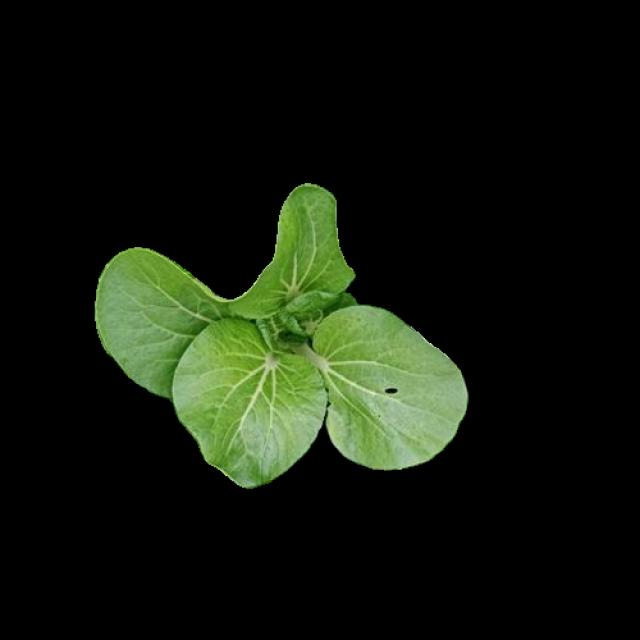not-mature: (99, 185, 467, 488)
unhealthy: (311, 306, 465, 470)
